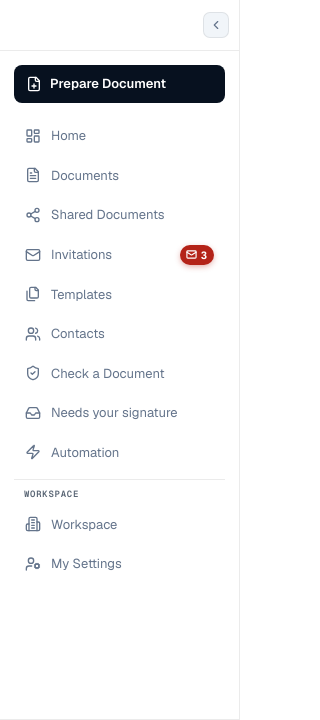
Test: Invitations navigation bubble › the collapsed sidebar keeps the count in the link's name
Expected: the picture named "3 pending invitations" is shown, [180,244,214,264]
Click the button named "Collapse sidebar": [216, 25] box [203,12,229,38]
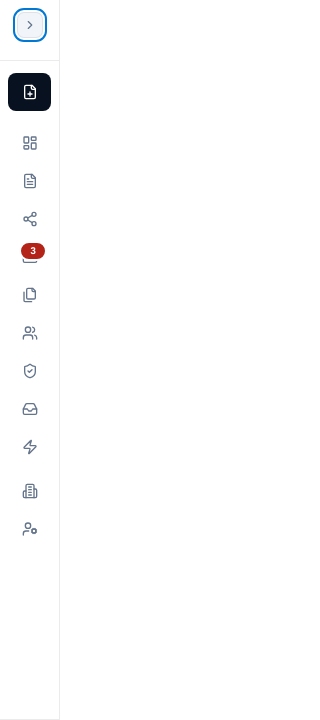
Expected: the text with test id "invitation-bubble-dot" reads "3", [30,244,36,257]
Expected: the link named "Invitations, 3 pending invitations" is shown, [19,241,47,265]
